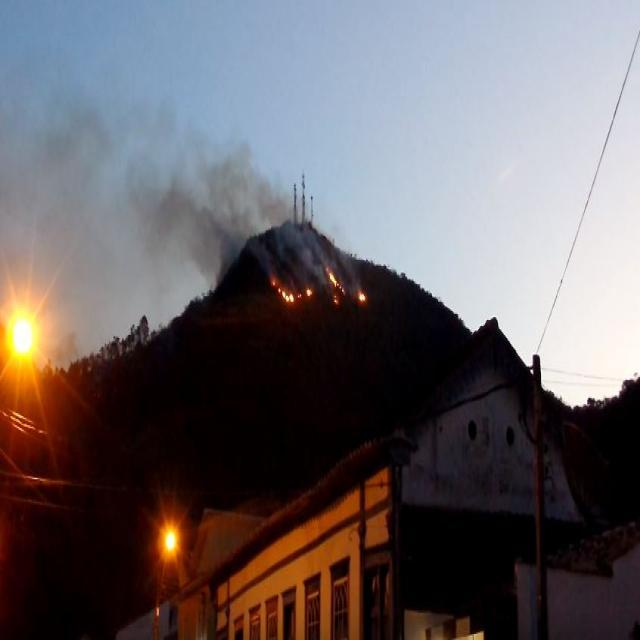Fire: (268, 276, 314, 308), (326, 268, 346, 306), (356, 285, 367, 311)
Smoke: (146, 188, 244, 276), (210, 140, 292, 220), (290, 222, 329, 276)
